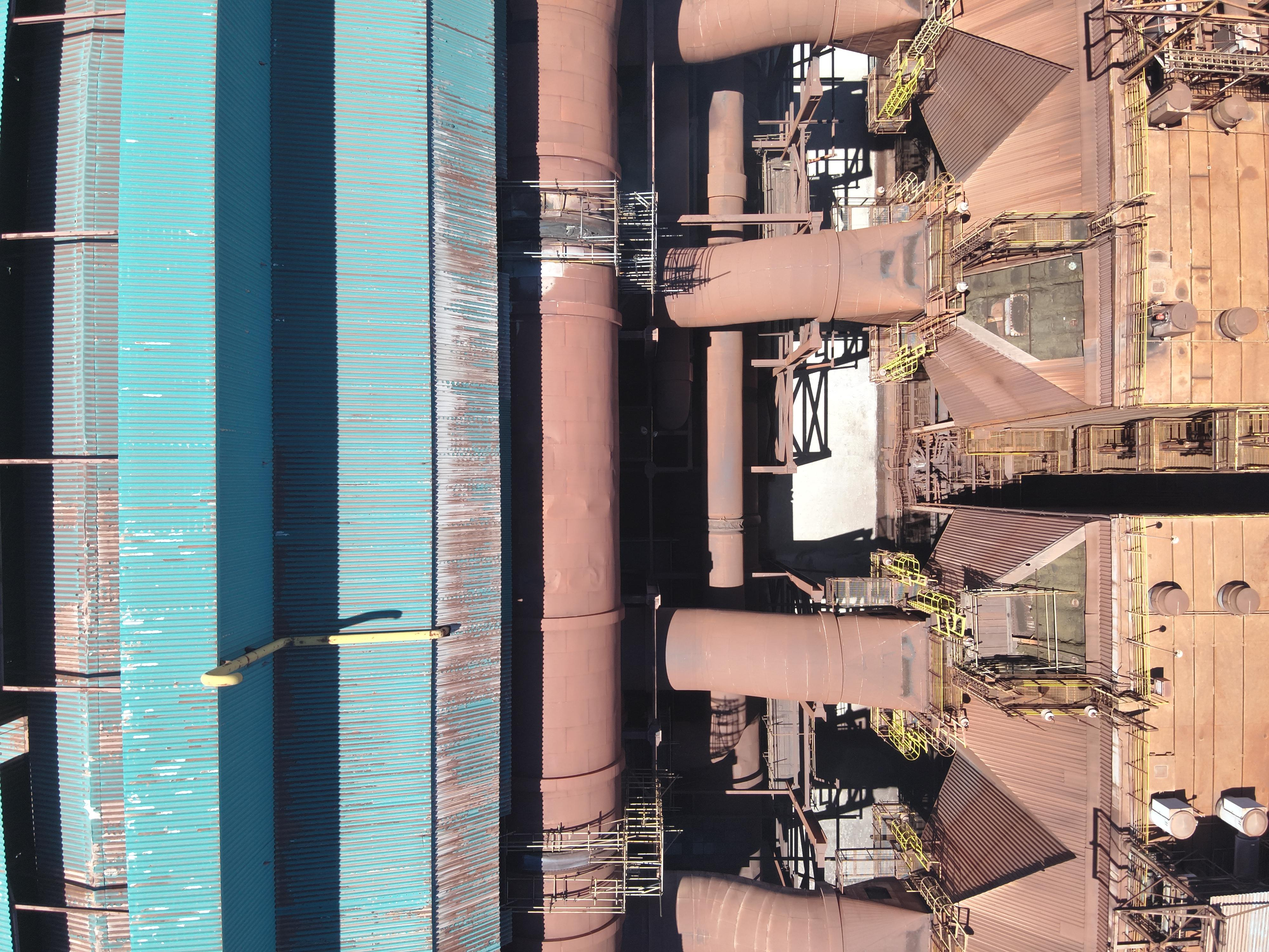Failures: (941, 255, 1093, 365), (1001, 537, 1099, 696)
